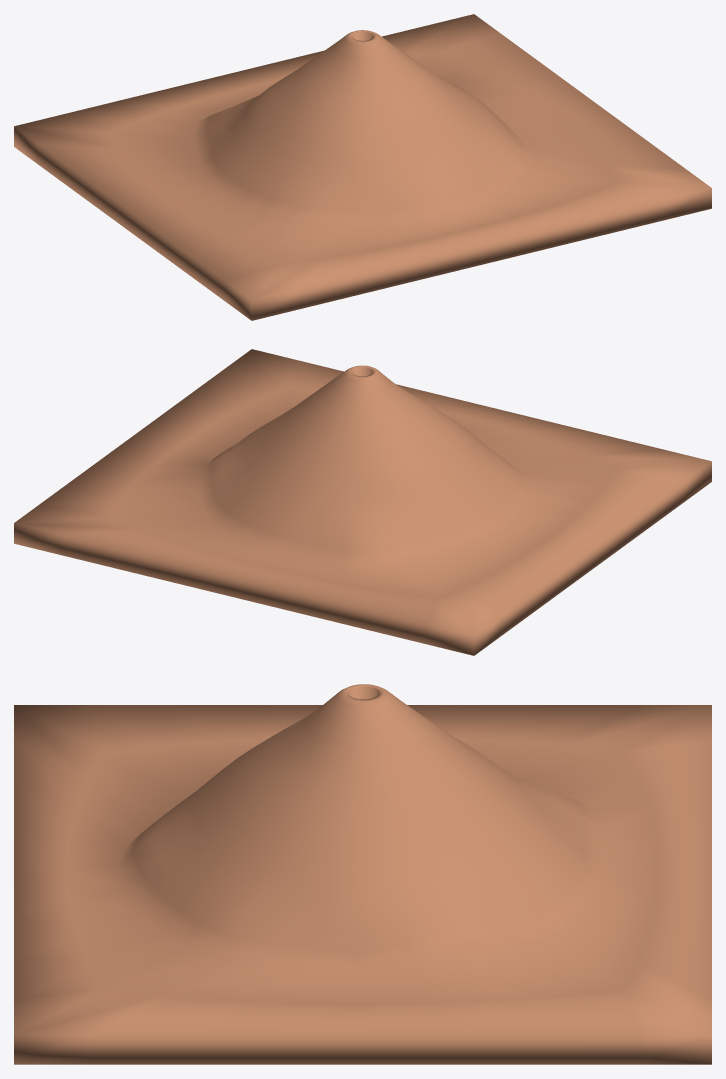
File: StartAnthill.fbx
3 views of the same model, one above another, from view 1: azimuth 30°, elevation 25°; view 2: azimuth 150°, elevation 25°; view 3: azimuth 270°, elevation 25° (orthographic). The views are drawn at different scales.
Parts seen in each view (by area): view 1: Circle; view 2: Circle; view 3: Circle.
Boxes of the visible parts, bbox=[...] form: Circle: bbox=[14, 14, 711, 320]; Circle: bbox=[14, 349, 711, 655]; Circle: bbox=[14, 684, 711, 1064].
Size of the model in its own units: 3238 by 951 by 2898.
